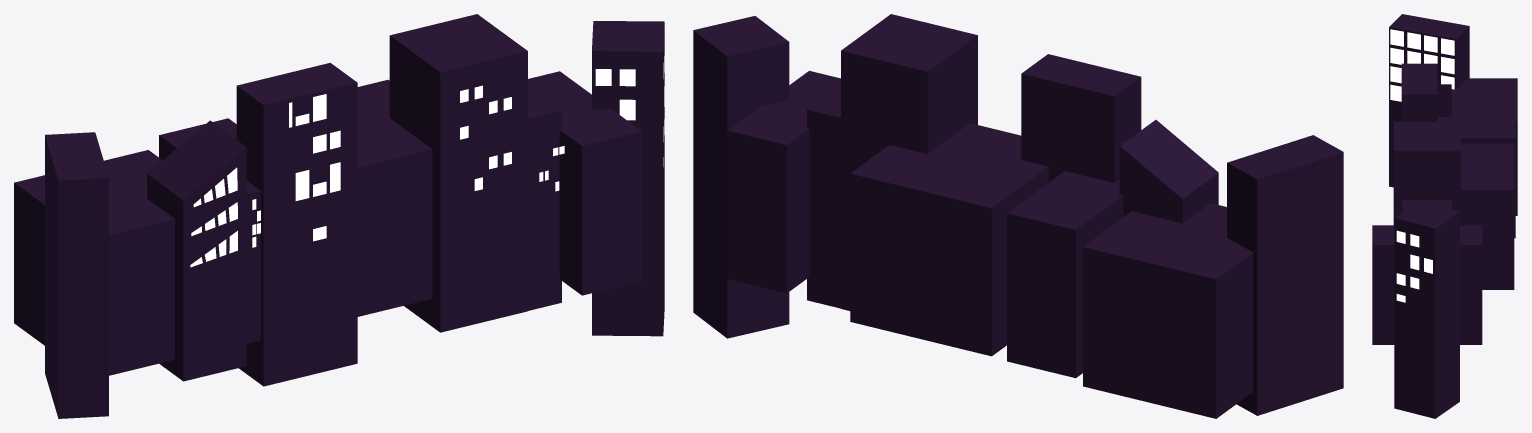
Rendered from 3d fnf buildings.glb.
3 renders of one model, left to right at view 1: azimuth 30°, elevation 25°; view 2: azimuth 150°, elevation 25°; view 3: azimuth 270°, elevation 25°, orthographic. The views are drawn at different scales.
Parts seen in each view (by area): view 1: Cube.022; view 2: Cube.022; view 3: Cube.022.
Boxes of the visible parts, x1,y1,x2,y2 form: Cube.022: (14, 14, 664, 418); Cube.022: (693, 14, 1343, 418); Cube.022: (1372, 14, 1517, 418).
Bounding box in the file's own units: 4.41 × 2.16 × 1.32.
